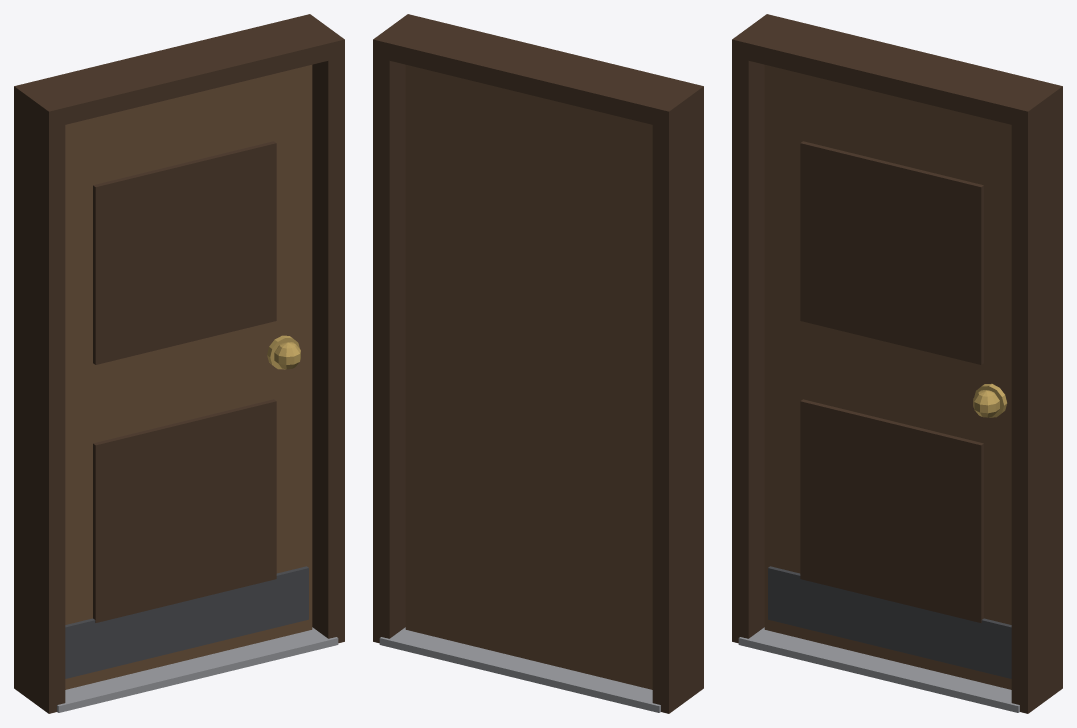
The model's file is PRP_Door_ND_v001.glb.
3 views of the same model, side by side, from view 1: azimuth 30°, elevation 25°; view 2: azimuth 150°, elevation 25°; view 3: azimuth 330°, elevation 25° (orthographic).
Visible parts, largest first — view 1: PRP_Door_ND_v001; view 2: PRP_Door_ND_v001; view 3: PRP_Door_ND_v001.
Boxes of the visible parts, x1=… form: PRP_Door_ND_v001: x1=14, y1=14, x2=344, y2=713; PRP_Door_ND_v001: x1=373, y1=14, x2=703, y2=713; PRP_Door_ND_v001: x1=732, y1=14, x2=1062, y2=713.
Size of the model in its own units: 1.08 by 2.1 by 0.24.
